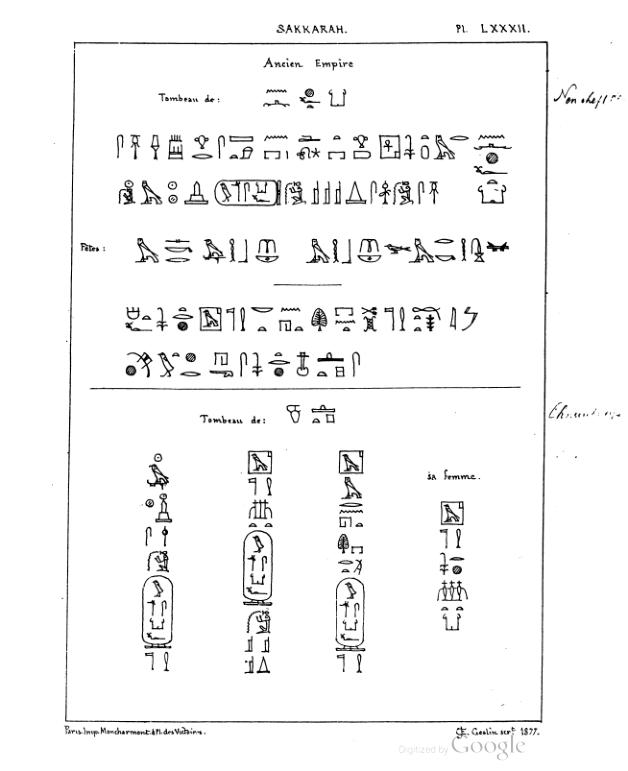circle: (137, 573, 177, 652), (331, 576, 371, 654), (211, 173, 284, 212), (240, 528, 274, 607)
